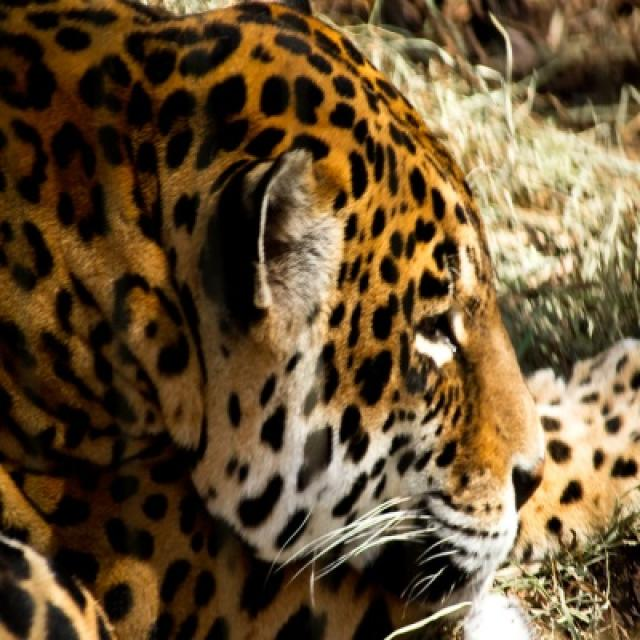Jaguar: (0, 0, 549, 638)
